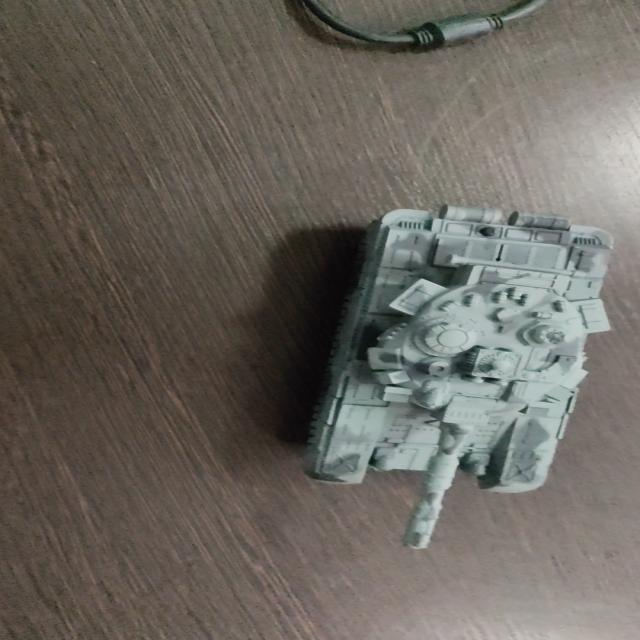tank: (292, 194, 626, 557)
